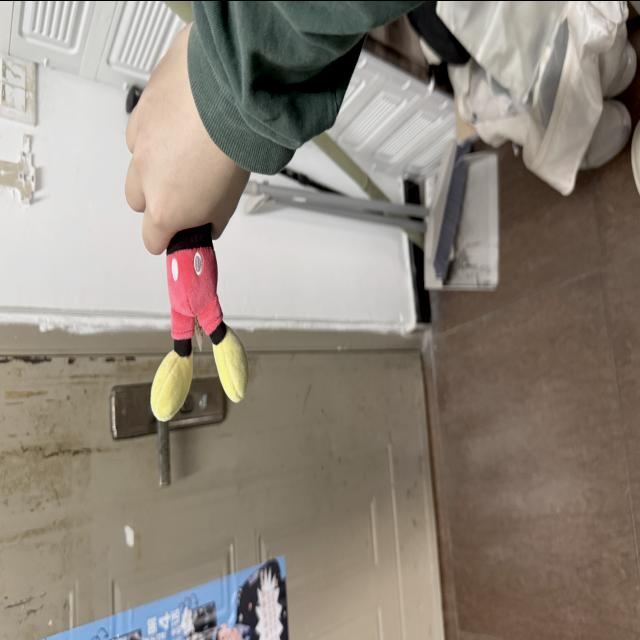mickey: (151, 224, 247, 420), (211, 559, 288, 639)
